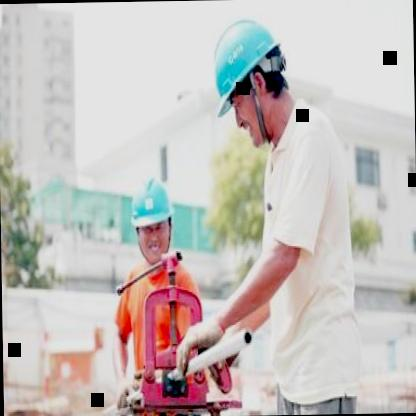helmet: (197, 0, 296, 152), (128, 172, 179, 264)
